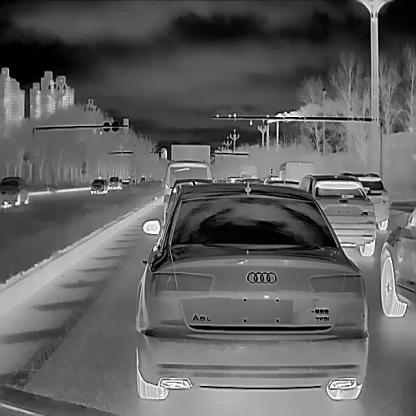car: (135, 183, 369, 400), (294, 174, 376, 256), (379, 199, 415, 316), (341, 171, 390, 230), (162, 159, 210, 218), (278, 160, 314, 188), (0, 176, 29, 208), (90, 178, 106, 194), (109, 176, 120, 190)
